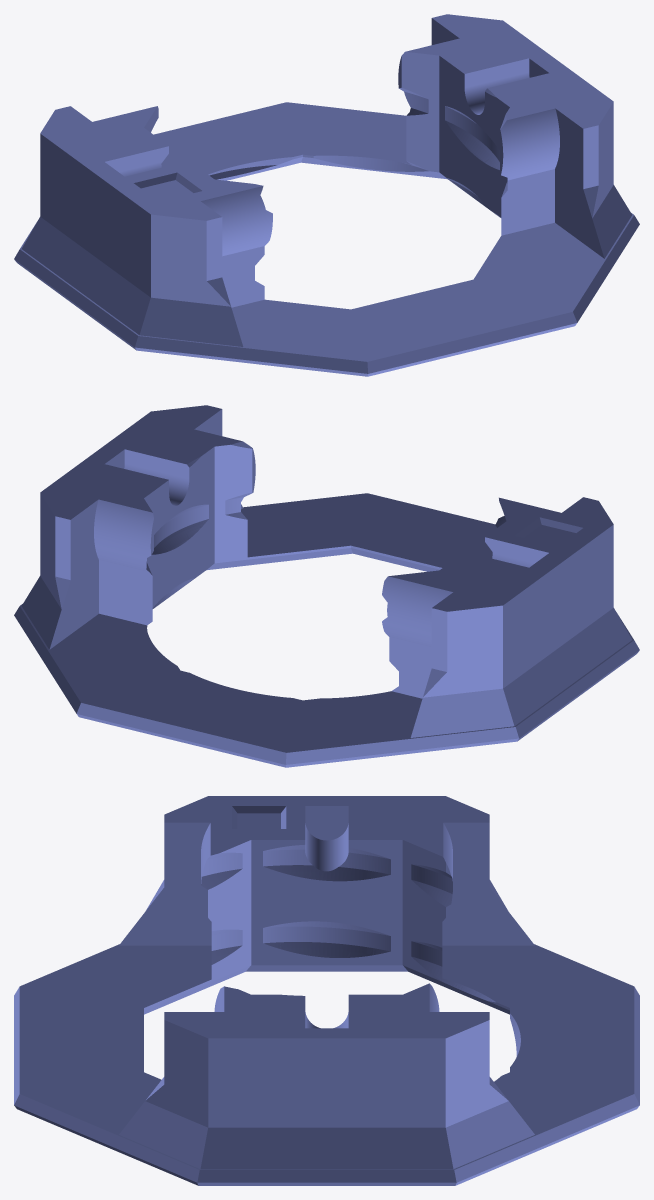
File: Snap (DS Part B) - Standard.glb
The picture shows the model from 3 angles, top to bottom: view 1: azimuth 30°, elevation 25°; view 2: azimuth 150°, elevation 25°; view 3: azimuth 270°, elevation 25°; orthographic projection. The views are drawn at different scales.
Parts seen in each view (by area): view 1: Node1; view 2: Node1; view 3: Node1.
Part boxes in pixels (box(x1,y1,x2,y2)): Node1: box(14, 14, 639, 376); Node1: box(14, 405, 639, 767); Node1: box(14, 796, 639, 1185).
Size of the model in its own units: 23.08 by 5.6 by 23.08.
